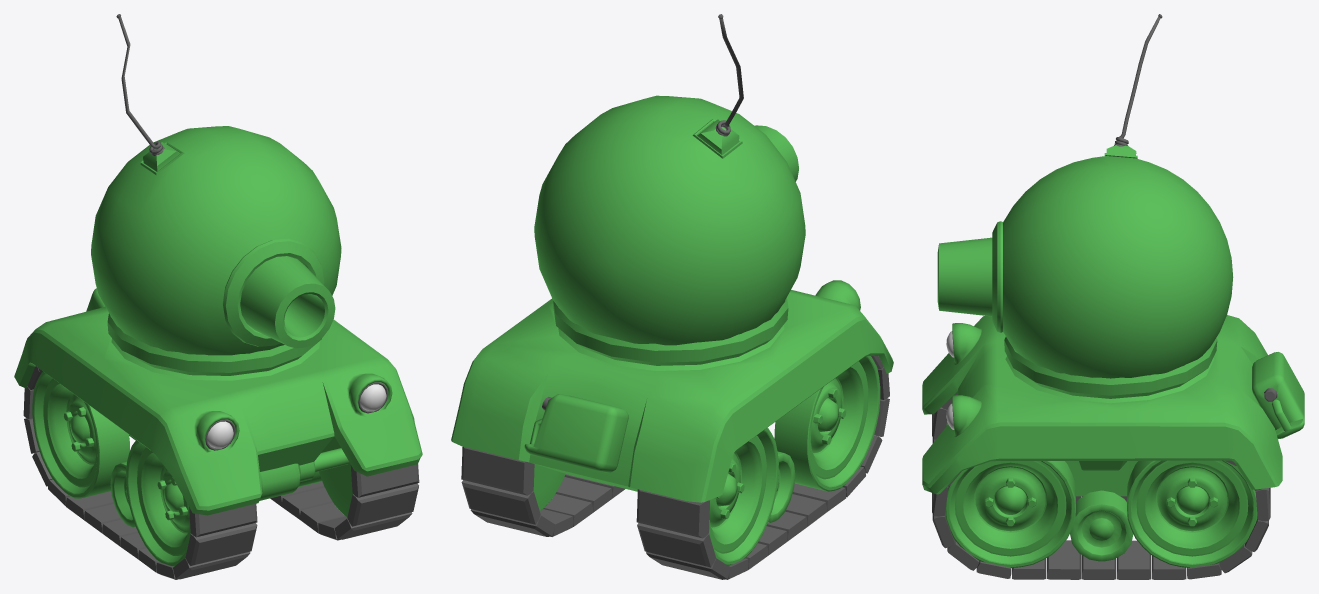
Rendered from Tank 002.fbx.
3 renders of one model, left to right at view 1: azimuth 30°, elevation 25°; view 2: azimuth 150°, elevation 25°; view 3: azimuth 270°, elevation 25°, orthographic. The views are drawn at different scales.
Parts seen in each view (by area): view 1: TankChassis, pSphere1, TankTracksRight, TankTracksLeft, polySurface2; view 2: pSphere1, TankChassis, TankTracksRight, TankTracksLeft, polySurface2; view 3: pSphere1, TankChassis, TankTracksLeft, polySurface2, TankTracksRight.
Boxes of the visible parts, x1=… form: TankChassis: x1=14, y1=288, x2=422, y2=527; pSphere1: x1=91, y1=126, x2=341, y2=355; TankTracksRight: x1=23, y1=366, x2=257, y2=579; TankTracksLeft: x1=270, y1=436, x2=419, y2=540; polySurface2: x1=116, y1=14, x2=164, y2=155; pSphere1: x1=534, y1=95, x2=805, y2=345; TankChassis: x1=451, y1=280, x2=893, y2=522; TankTracksRight: x1=636, y1=356, x2=889, y2=579; TankTracksLeft: x1=461, y1=446, x2=624, y2=536; polySurface2: x1=715, y1=14, x2=743, y2=136; pSphere1: x1=937, y1=145, x2=1233, y2=378; TankChassis: x1=922, y1=315, x2=1304, y2=561; TankTracksLeft: x1=932, y1=460, x2=1270, y2=579; polySurface2: x1=1114, y1=14, x2=1162, y2=146; TankTracksRight: x1=932, y1=393, x2=1126, y2=502.
Bounding box in the file's own units: 170 × 328 × 237.
